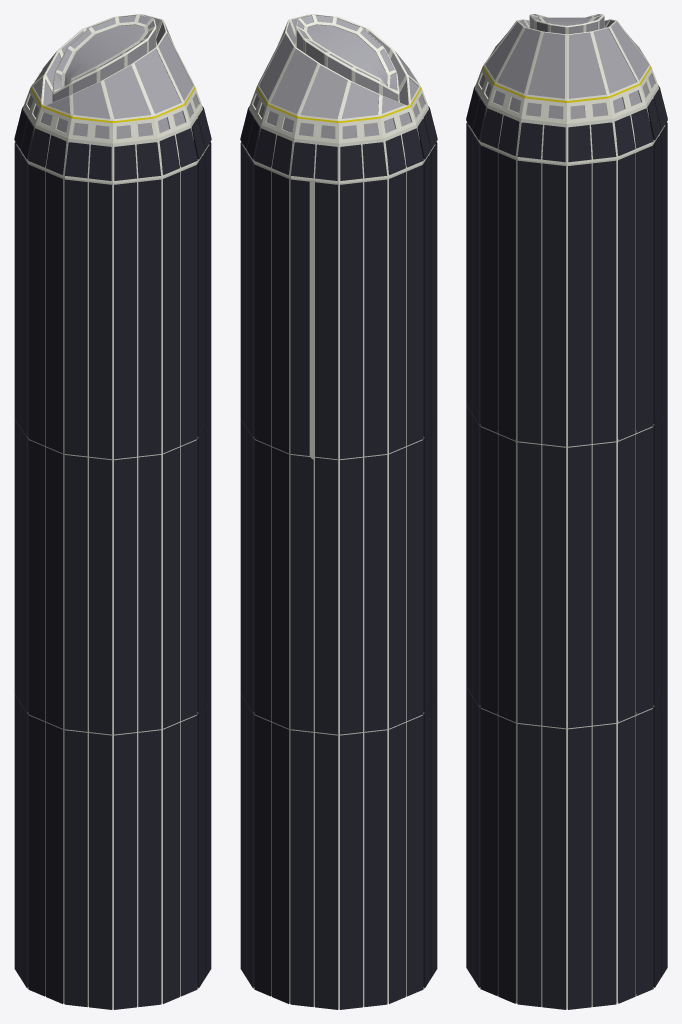
Rendered from GladeCentre.FBX.
3 views of the same model, side by side, from view 1: azimuth 30°, elevation 25°; view 2: azimuth 150°, elevation 25°; view 3: azimuth 270°, elevation 25° (orthographic). The views are drawn at different scales.
Visible parts, largest first — view 1: GladeBlossom; view 2: GladeBlossom; view 3: GladeBlossom.
Part boxes in pixels (box(x1,y1,x2,y2)): GladeBlossom: box(14, 14, 211, 1009); GladeBlossom: box(240, 14, 437, 1009); GladeBlossom: box(466, 14, 667, 1009).
Size of the model in its own units: 103 by 539 by 103.
